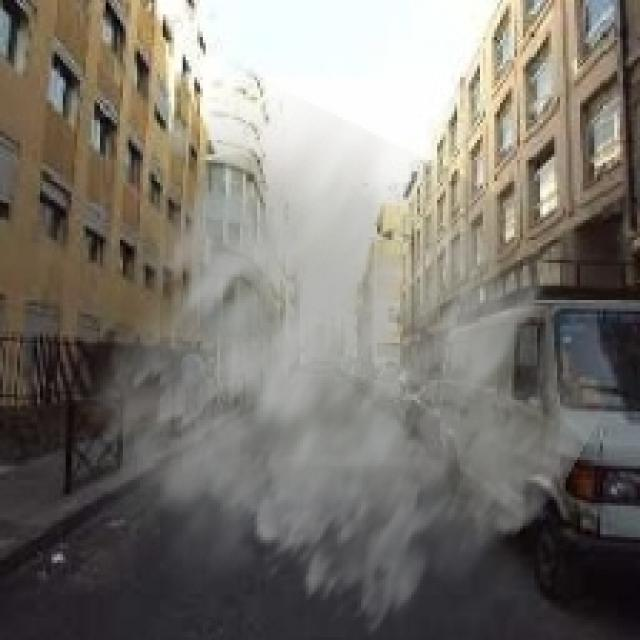smoke: (63, 72, 628, 637)
